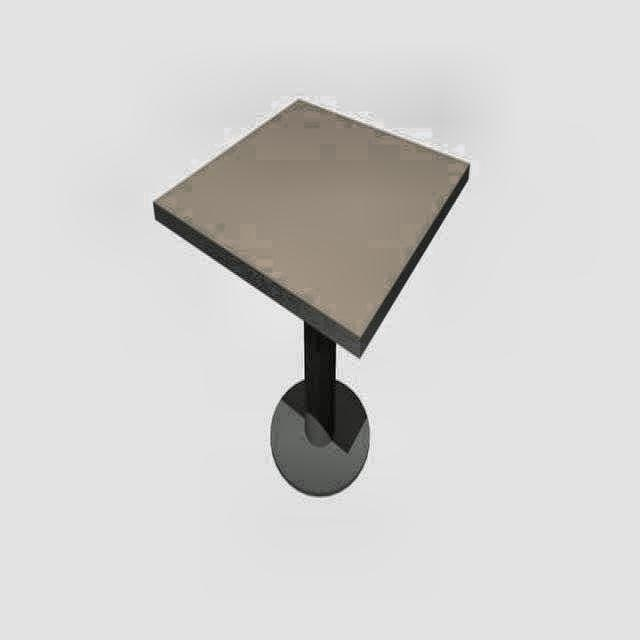mesa: (151, 98, 470, 496)
